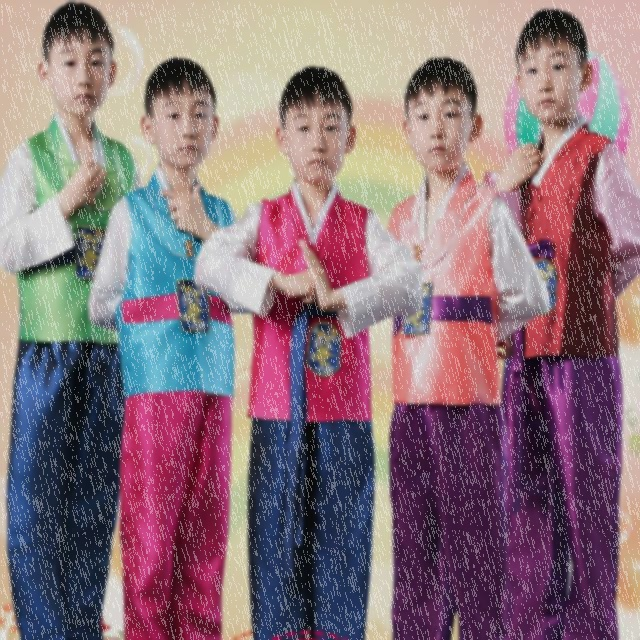pessoa: (184, 54, 433, 639), (464, 1, 640, 639), (0, 0, 172, 639), (385, 54, 552, 635), (84, 53, 240, 635)
